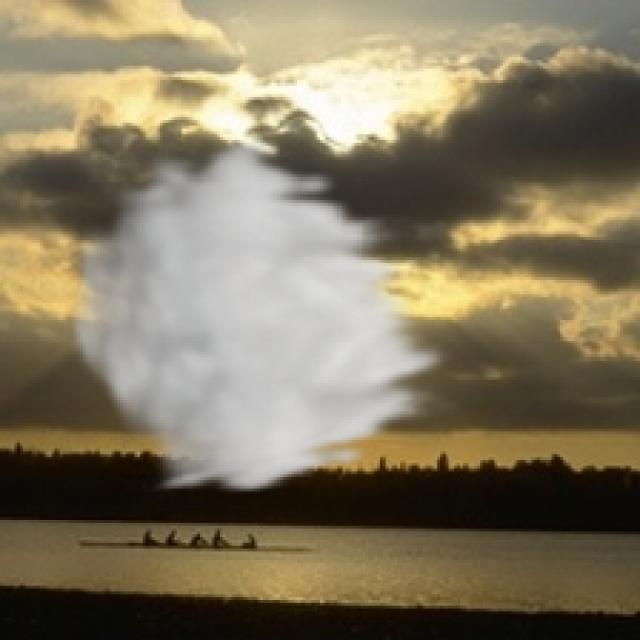smoke: (63, 134, 460, 497)
